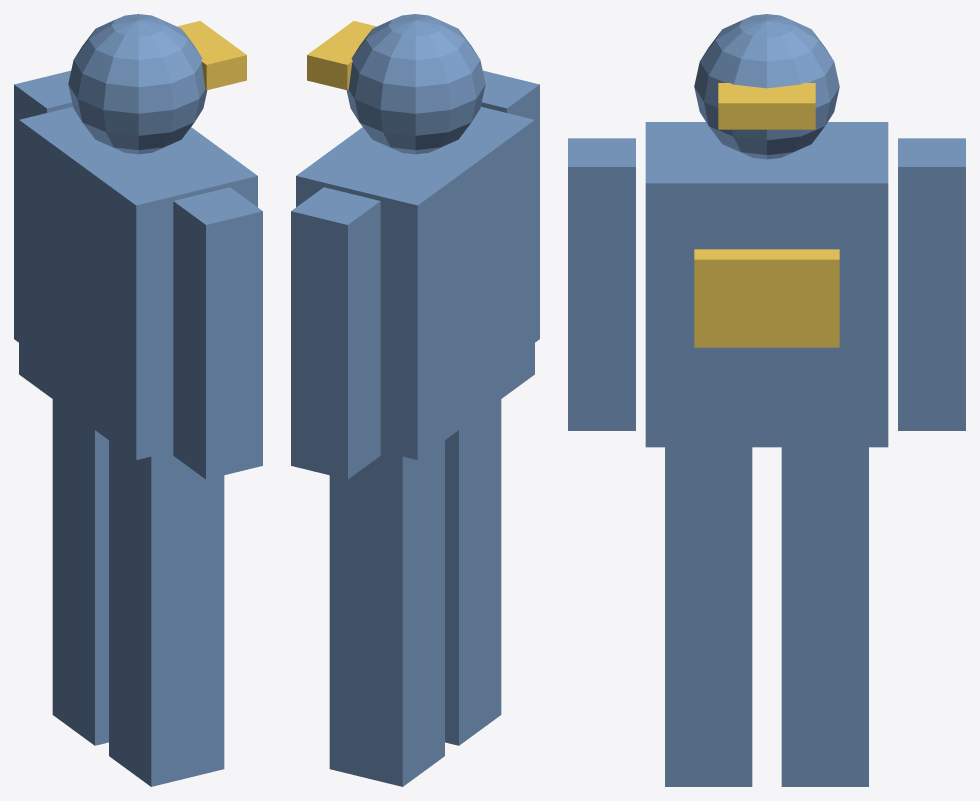
The model's file is placeholder.glb.
3 views of the same model, side by side, from view 1: azimuth 30°, elevation 25°; view 2: azimuth 150°, elevation 25°; view 3: azimuth 270°, elevation 25° (orthographic). The views are drawn at different scales.
Visible parts, largest first — view 1: Champion; view 2: Champion; view 3: Champion.
Part boxes in pixels (box(x1,y1,x2,y2)): Champion: box(14, 14, 262, 786); Champion: box(291, 14, 539, 786); Champion: box(568, 14, 965, 786).
Bounding box in the file's own units: 0.36 × 1.7 × 0.82.
